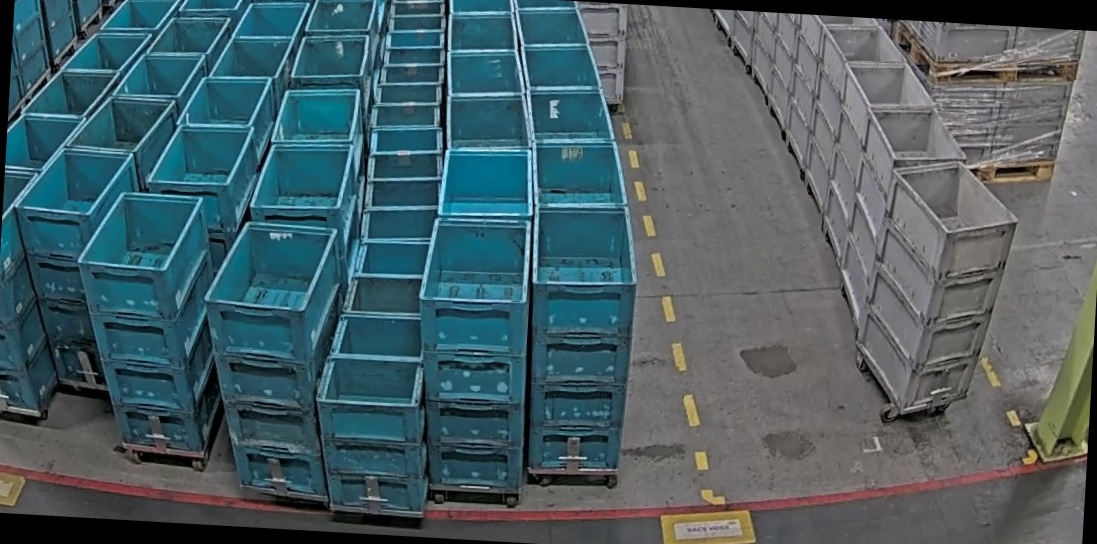4G: (849, 155, 1022, 424)
B4: (65, 189, 235, 459), (190, 219, 349, 502), (409, 215, 541, 495), (2, 144, 143, 392), (516, 202, 640, 475)
B8: (311, 312, 438, 517)
